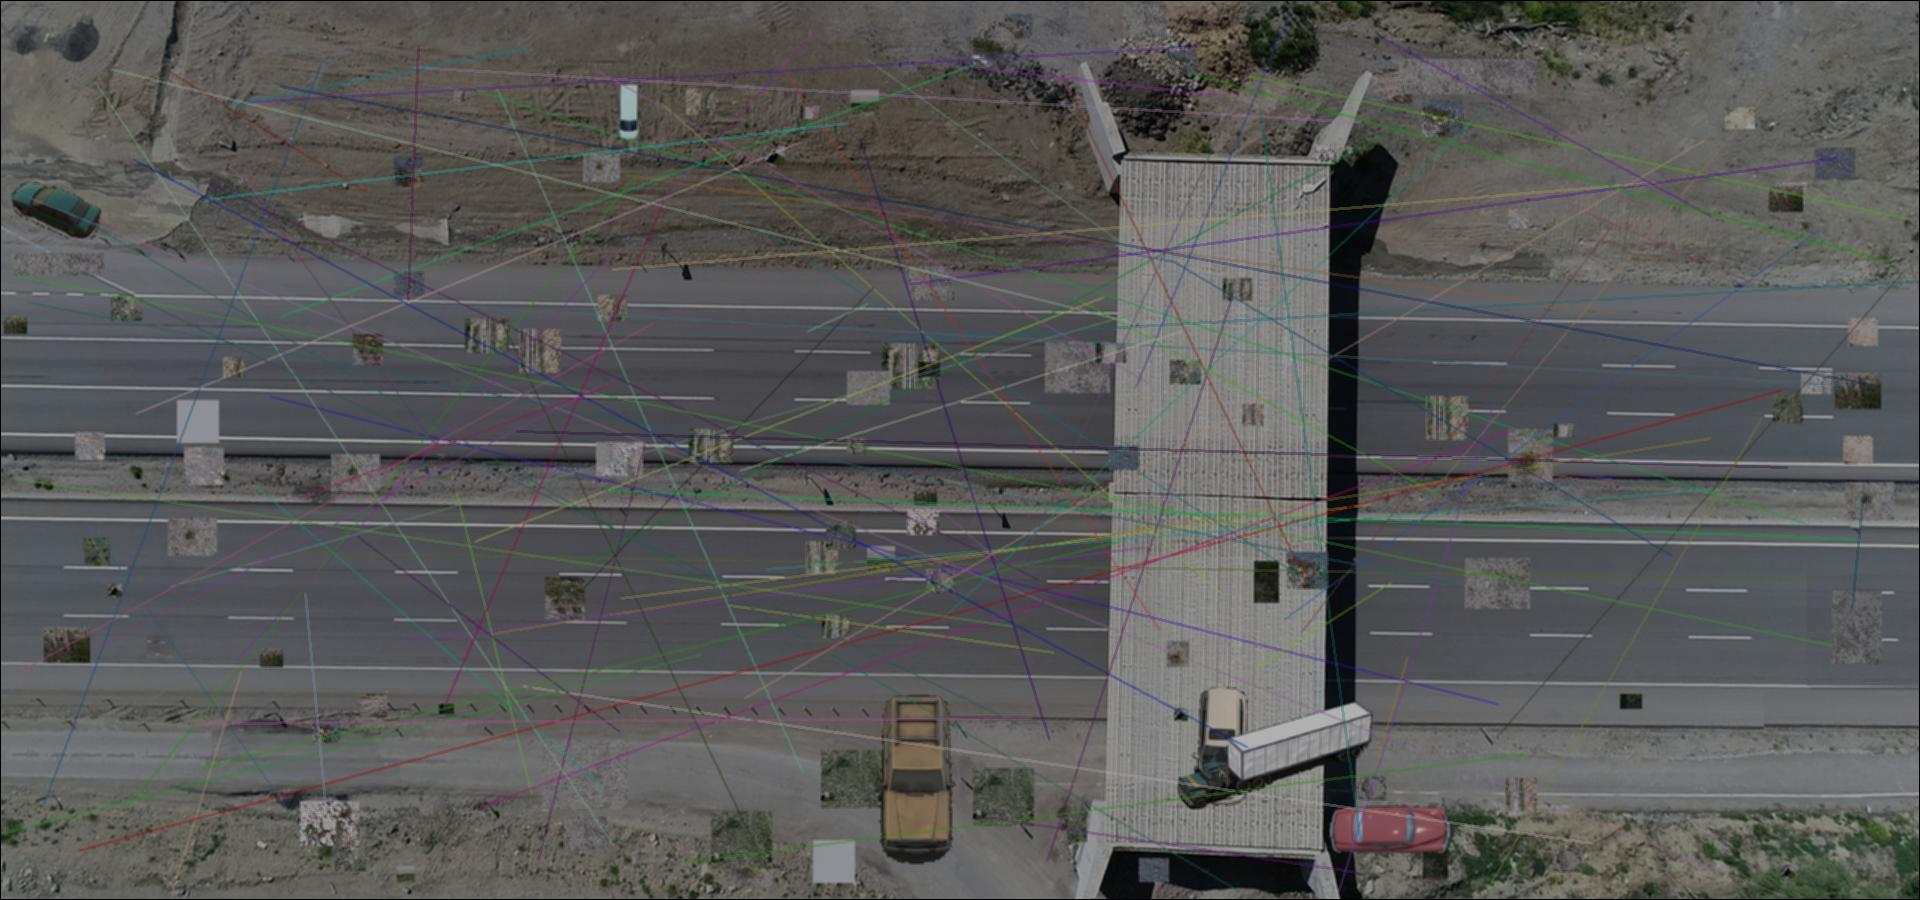arac: (1174, 698, 1382, 809), (876, 691, 960, 864), (1191, 687, 1254, 806), (1329, 802, 1455, 857), (9, 181, 100, 239), (617, 83, 643, 141)
